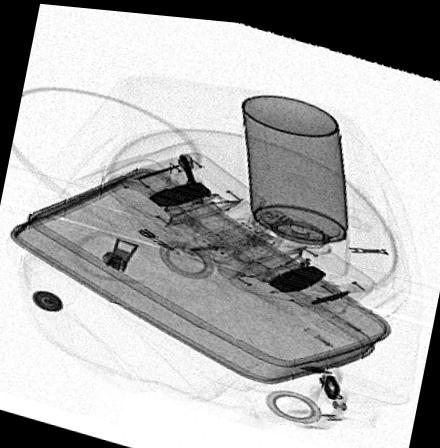Sprayer: (242, 90, 348, 271)
